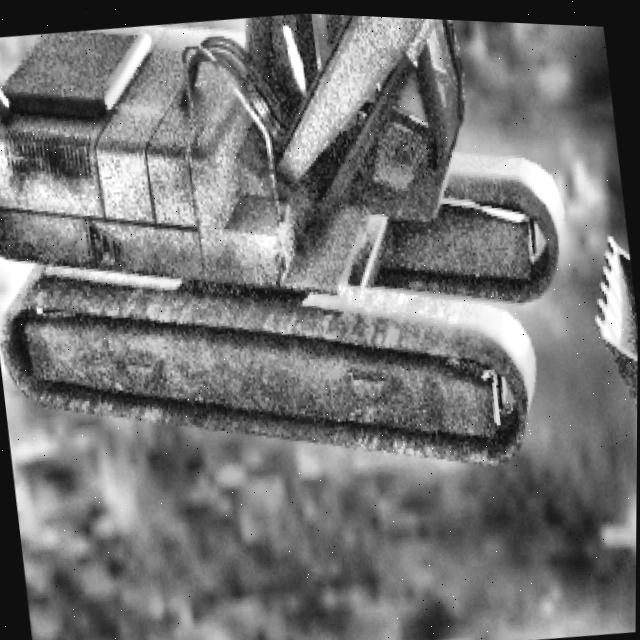excavator: (0, 0, 640, 521)
